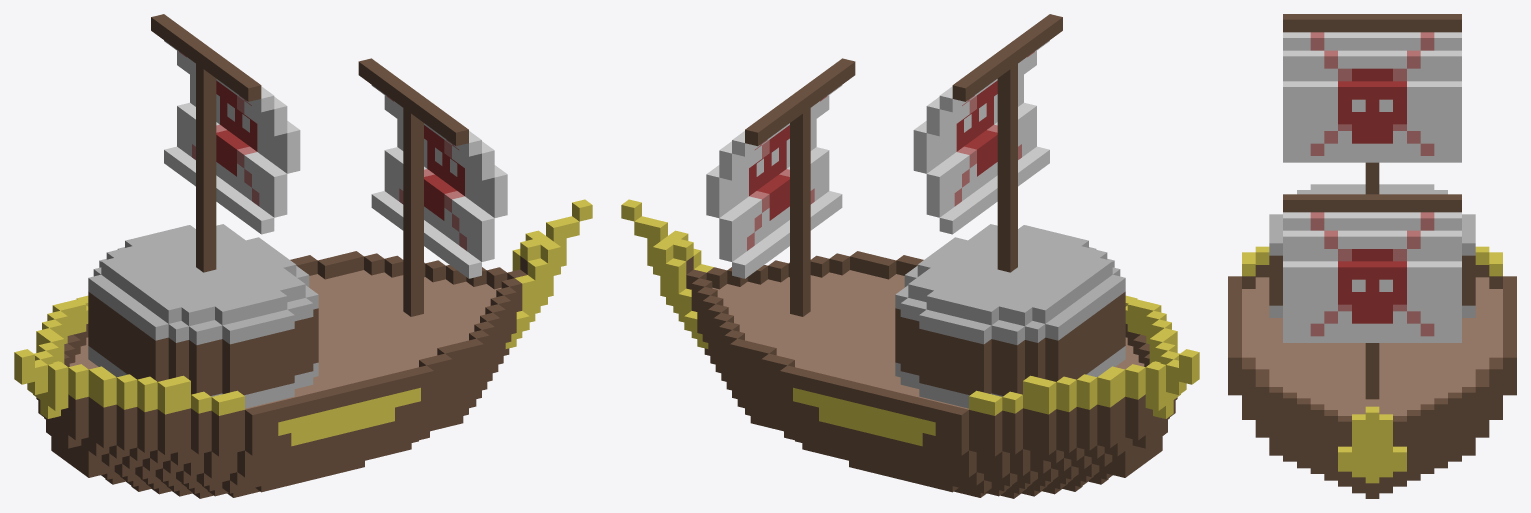
Rendered from pirate ship 1.obj.
The picture shows the model from 3 angles, left to right: view 1: azimuth 30°, elevation 25°; view 2: azimuth 150°, elevation 25°; view 3: azimuth 270°, elevation 25°; orthographic projection. The views are drawn at different scales.
Bounding box in the file's own units: 4.4 × 3.1 × 2.1.
